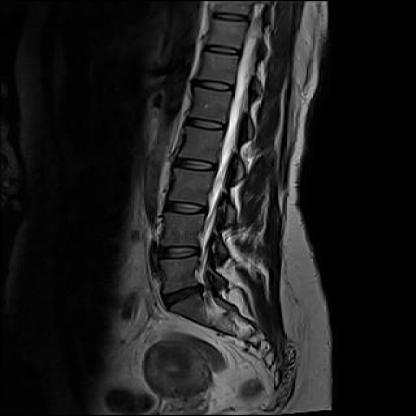Degenerative Disc Diseaserotation: (162, 285, 204, 305)
Disc Herniationrotation: (162, 285, 204, 305)
